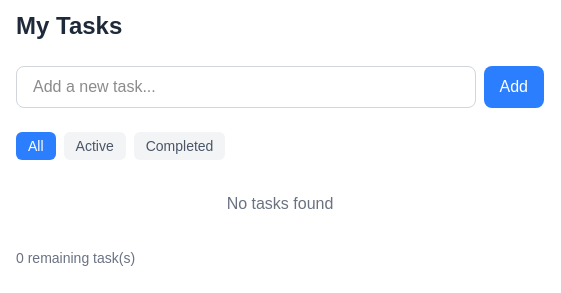
Scenario: TODOApp › Adding tasks › adds a new task when Enter key is pressed
This screenshot has width=561, height=293.
Type "Walk the dog" into the field with placeholder "Add a new task..." at (246, 87), box [16, 66, 476, 108]
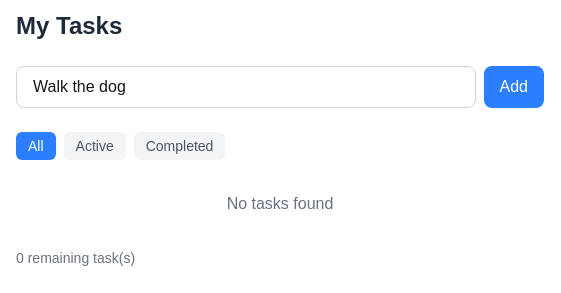
Press Enter in the field with placeholder "Add a new task...", box [16, 66, 476, 108]
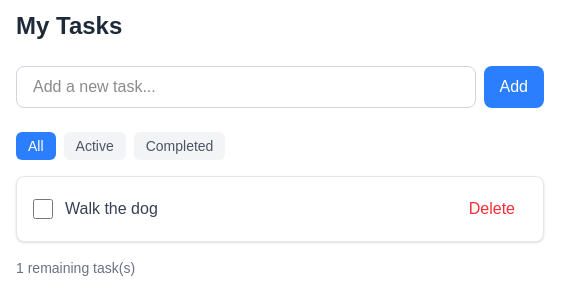
Expected: the text "Walk the dog" is shown, [65, 200, 158, 217]
